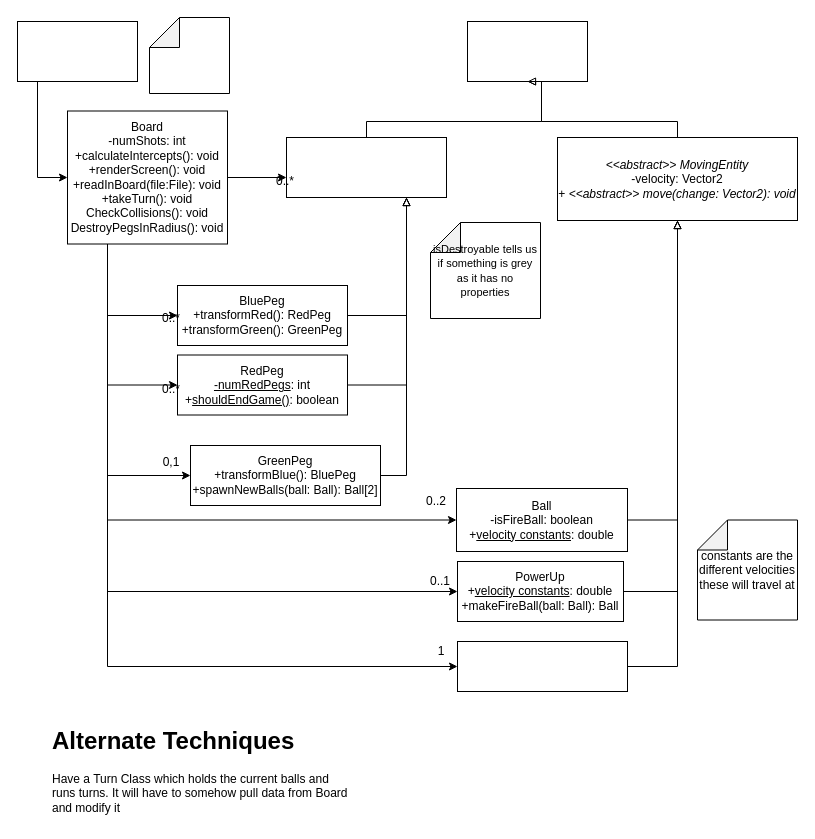
Image size: 815x839. Some labels were removed from this diagram. Each missing label, with the box of its shape:
<<abstract>> Entity position: Vector2 image: Image rectangle: Rectangle: (466, 20, 588, 82)
<<asbtract>> Peg +colour: String +isDestroyable: final boolean: (286, 136, 446, 198)
Bucket + velocity constants : double: (456, 640, 628, 692)
Game -currentBoard: int +newBoard(): void +run(): void: (16, 20, 138, 82)
game starts here in run(): (148, 16, 230, 94)
